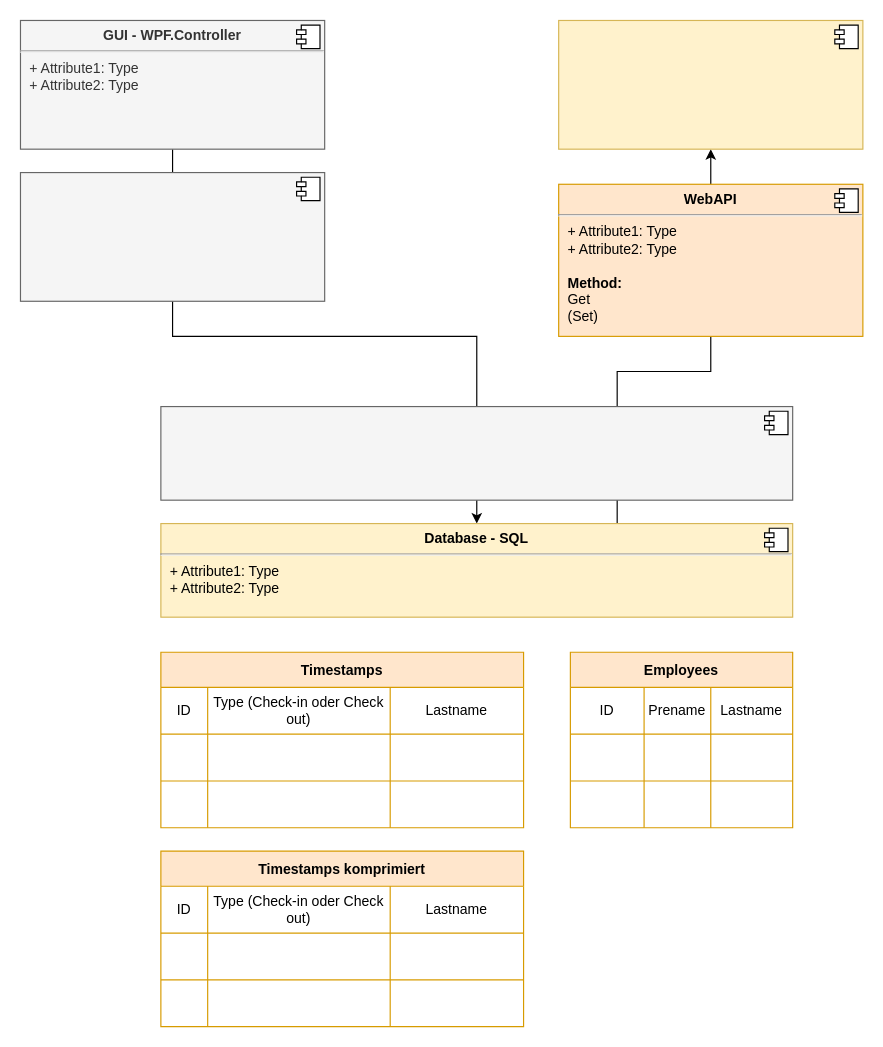
Image size: 883x1047. Some labels were removed from this diagram. The shapes that lost their labels are listed below. From the top down, each one's box as (x1, y1, x2, y2) in pixels, then its label:
(558, 19, 863, 149): Webapp - HTML, CSS + Attribute1: Type + Attribute2: Type
(19, 171, 325, 301): Business Logic Layer - Class library + Attribute1: Type + Attribute2: Type
(160, 405, 793, 500): Data Access Layer - Class library + Attribute1: Type + Attribute2: Type
